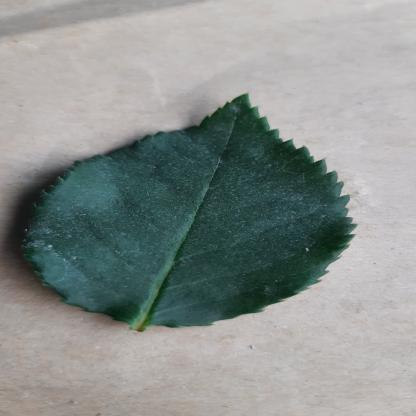normal: (37, 93, 364, 330)
